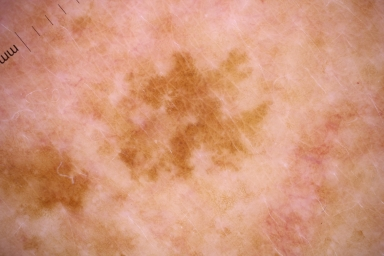melanoma: (113, 52, 273, 183), (1, 145, 94, 223)
